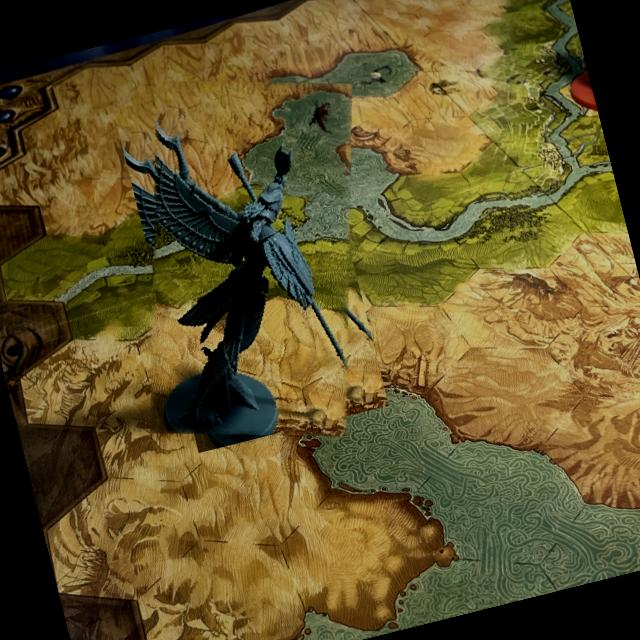isis: (90, 48, 412, 467)
